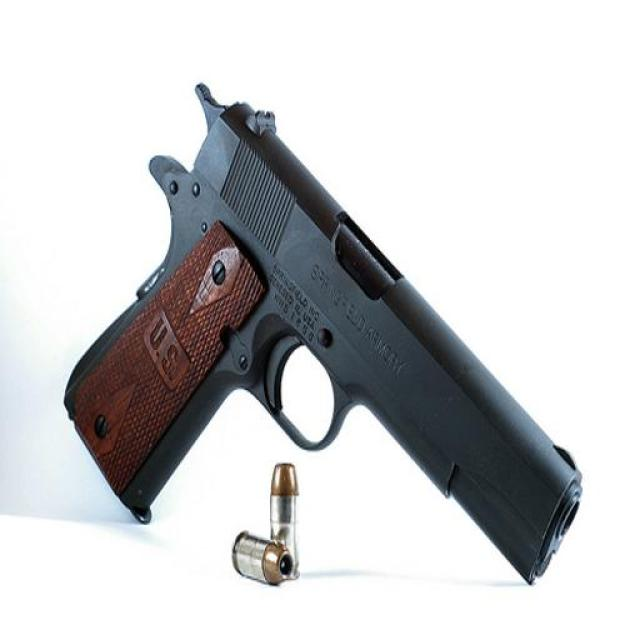pistol: (60, 72, 581, 590)
